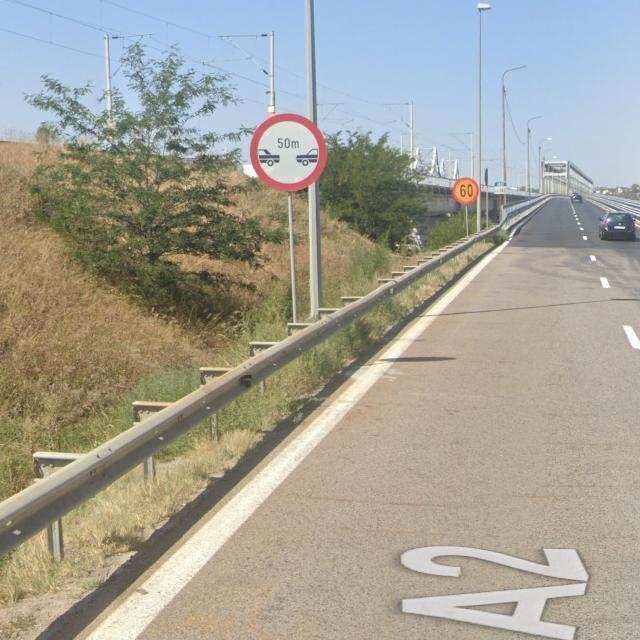forb_speed_over_60: (453, 177, 479, 204)
